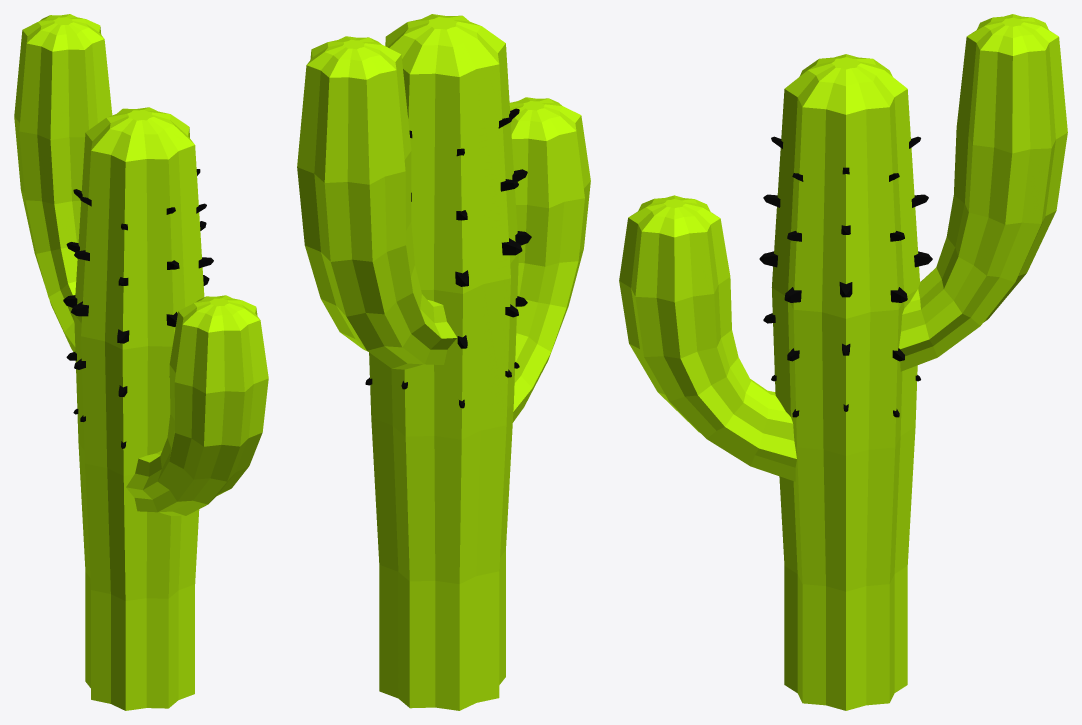
File: Cardon01_02Brazos_Sin_Flor.fbx
3 views of the same model, side by side, from view 1: azimuth 30°, elevation 25°; view 2: azimuth 150°, elevation 25°; view 3: azimuth 270°, elevation 25° (orthographic). The views are drawn at different scales.
Parts seen in each view (by area): view 1: Cactus, Espinas; view 2: Cactus, Espinas; view 3: Cactus, Espinas.
Part boxes in pixels (bbox=[...]): Cactus: bbox=[14, 14, 268, 710]; Espinas: bbox=[63, 169, 213, 448]; Cactus: bbox=[297, 14, 590, 710]; Espinas: bbox=[365, 108, 531, 408]; Cactus: bbox=[619, 14, 1067, 710]; Espinas: bbox=[759, 136, 932, 417].
Bounding box in the file's own units: 53.18 × 225 × 138.
